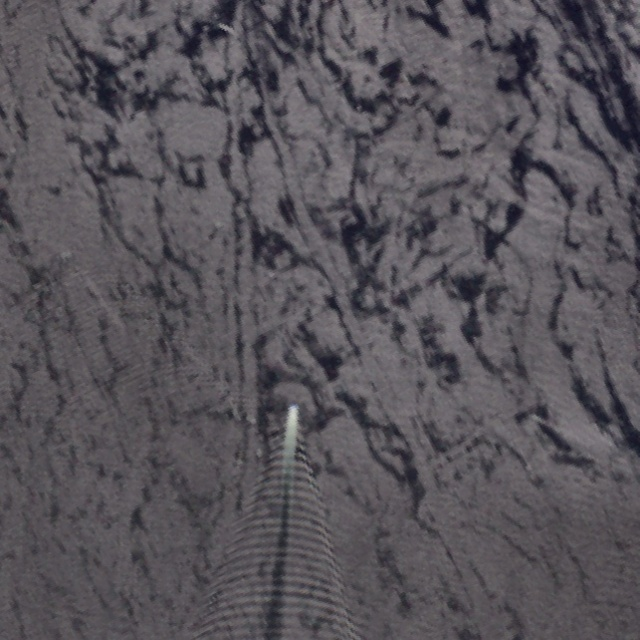wake: (229, 389, 341, 617)
